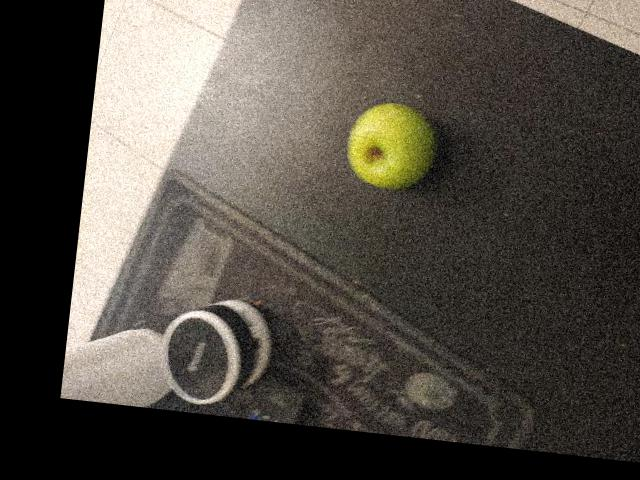apple: (244, 24, 358, 169)
